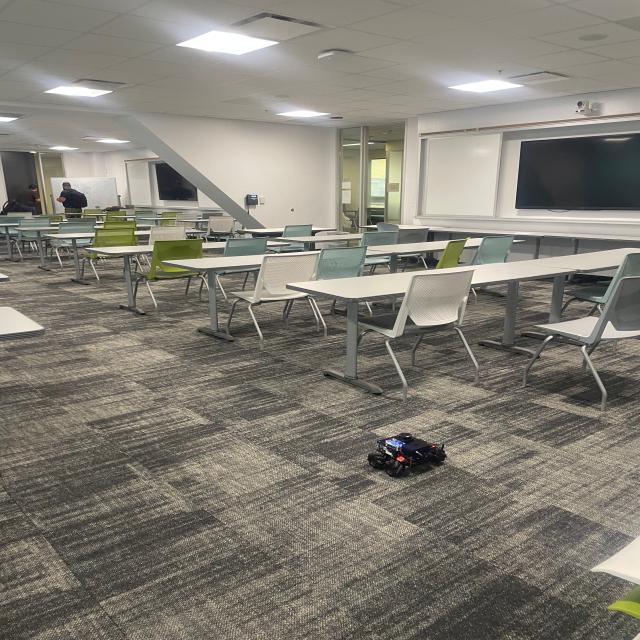ArduinoCar3: (366, 429, 450, 478)
